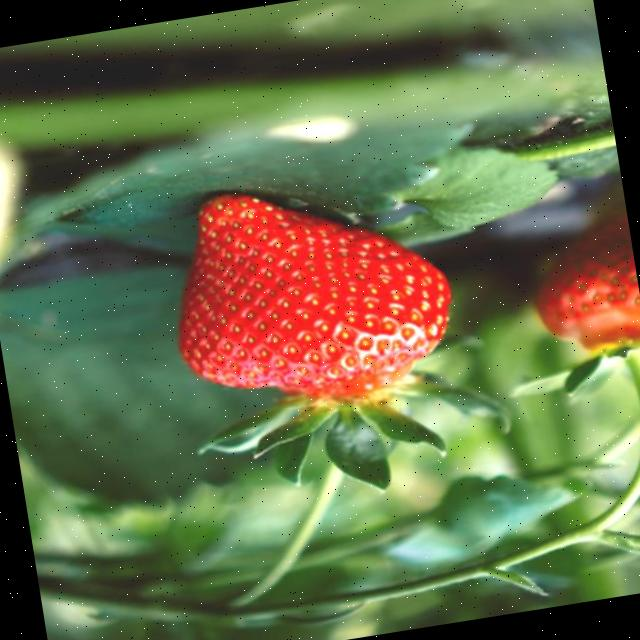strawberry: (178, 195, 451, 398), (535, 214, 640, 351)
